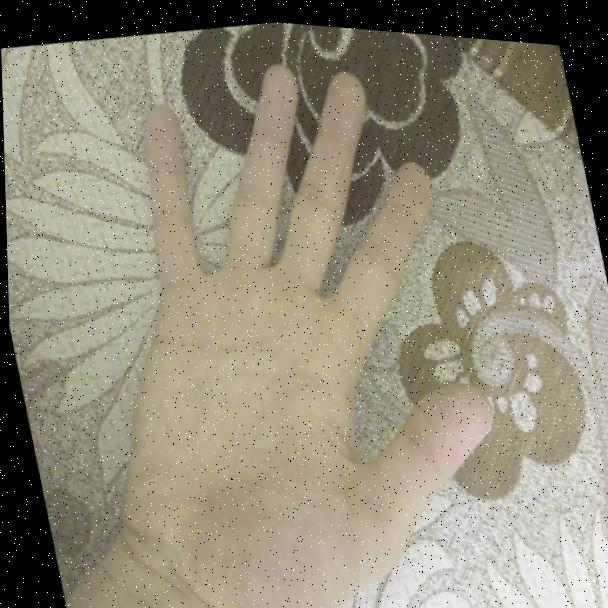five: (90, 6, 526, 608)
